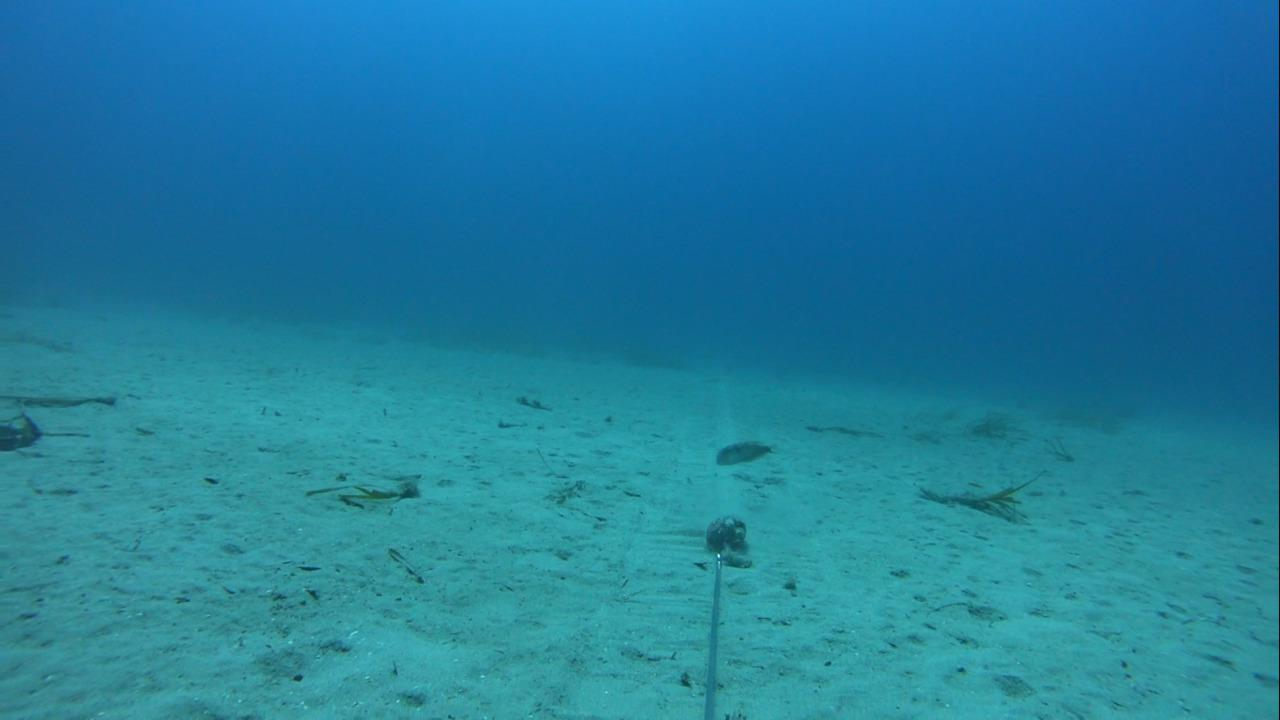raor: (711, 433, 777, 469)
